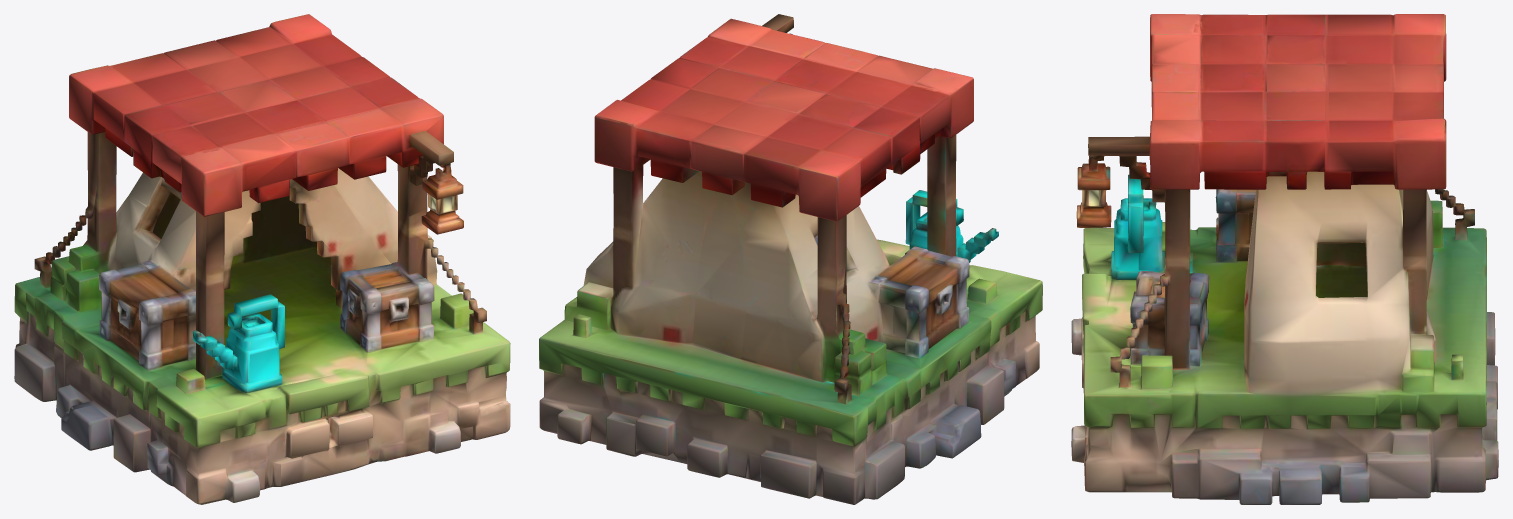
File: tent.glb
3 renders of one model, left to right at view 1: azimuth 30°, elevation 25°; view 2: azimuth 150°, elevation 25°; view 3: azimuth 270°, elevation 25°, orthographic. The views are drawn at different scales.
Visible parts, largest first — view 1: node_0; view 2: node_0; view 3: node_0.
Boxes of the visible parts, bbox=[...] form: node_0: bbox=[14, 14, 510, 504]; node_0: bbox=[539, 14, 1042, 504]; node_0: bbox=[1071, 14, 1498, 504].
Size of the model in its own units: 0.8244 by 0.6658 by 0.7685.
1 material, 1 textured.
